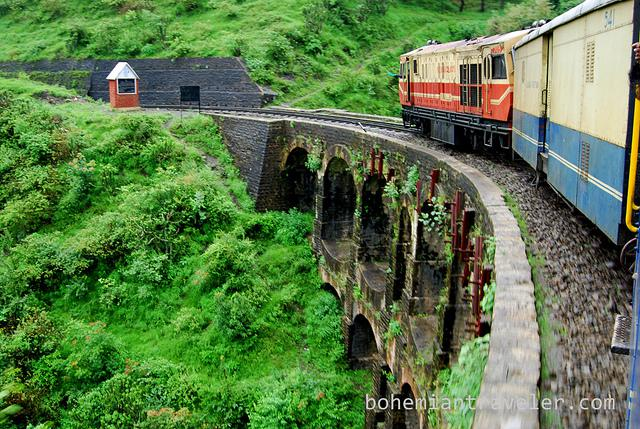Train: (400, 4, 640, 422)
